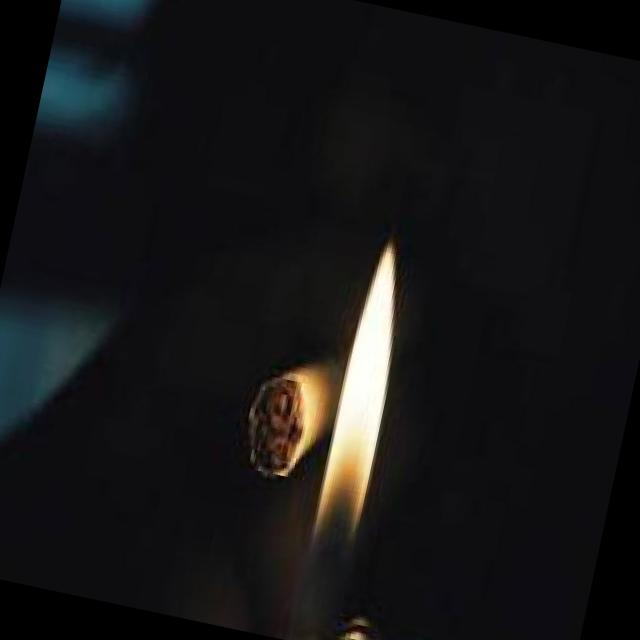Smoke: (287, 241, 416, 640)
